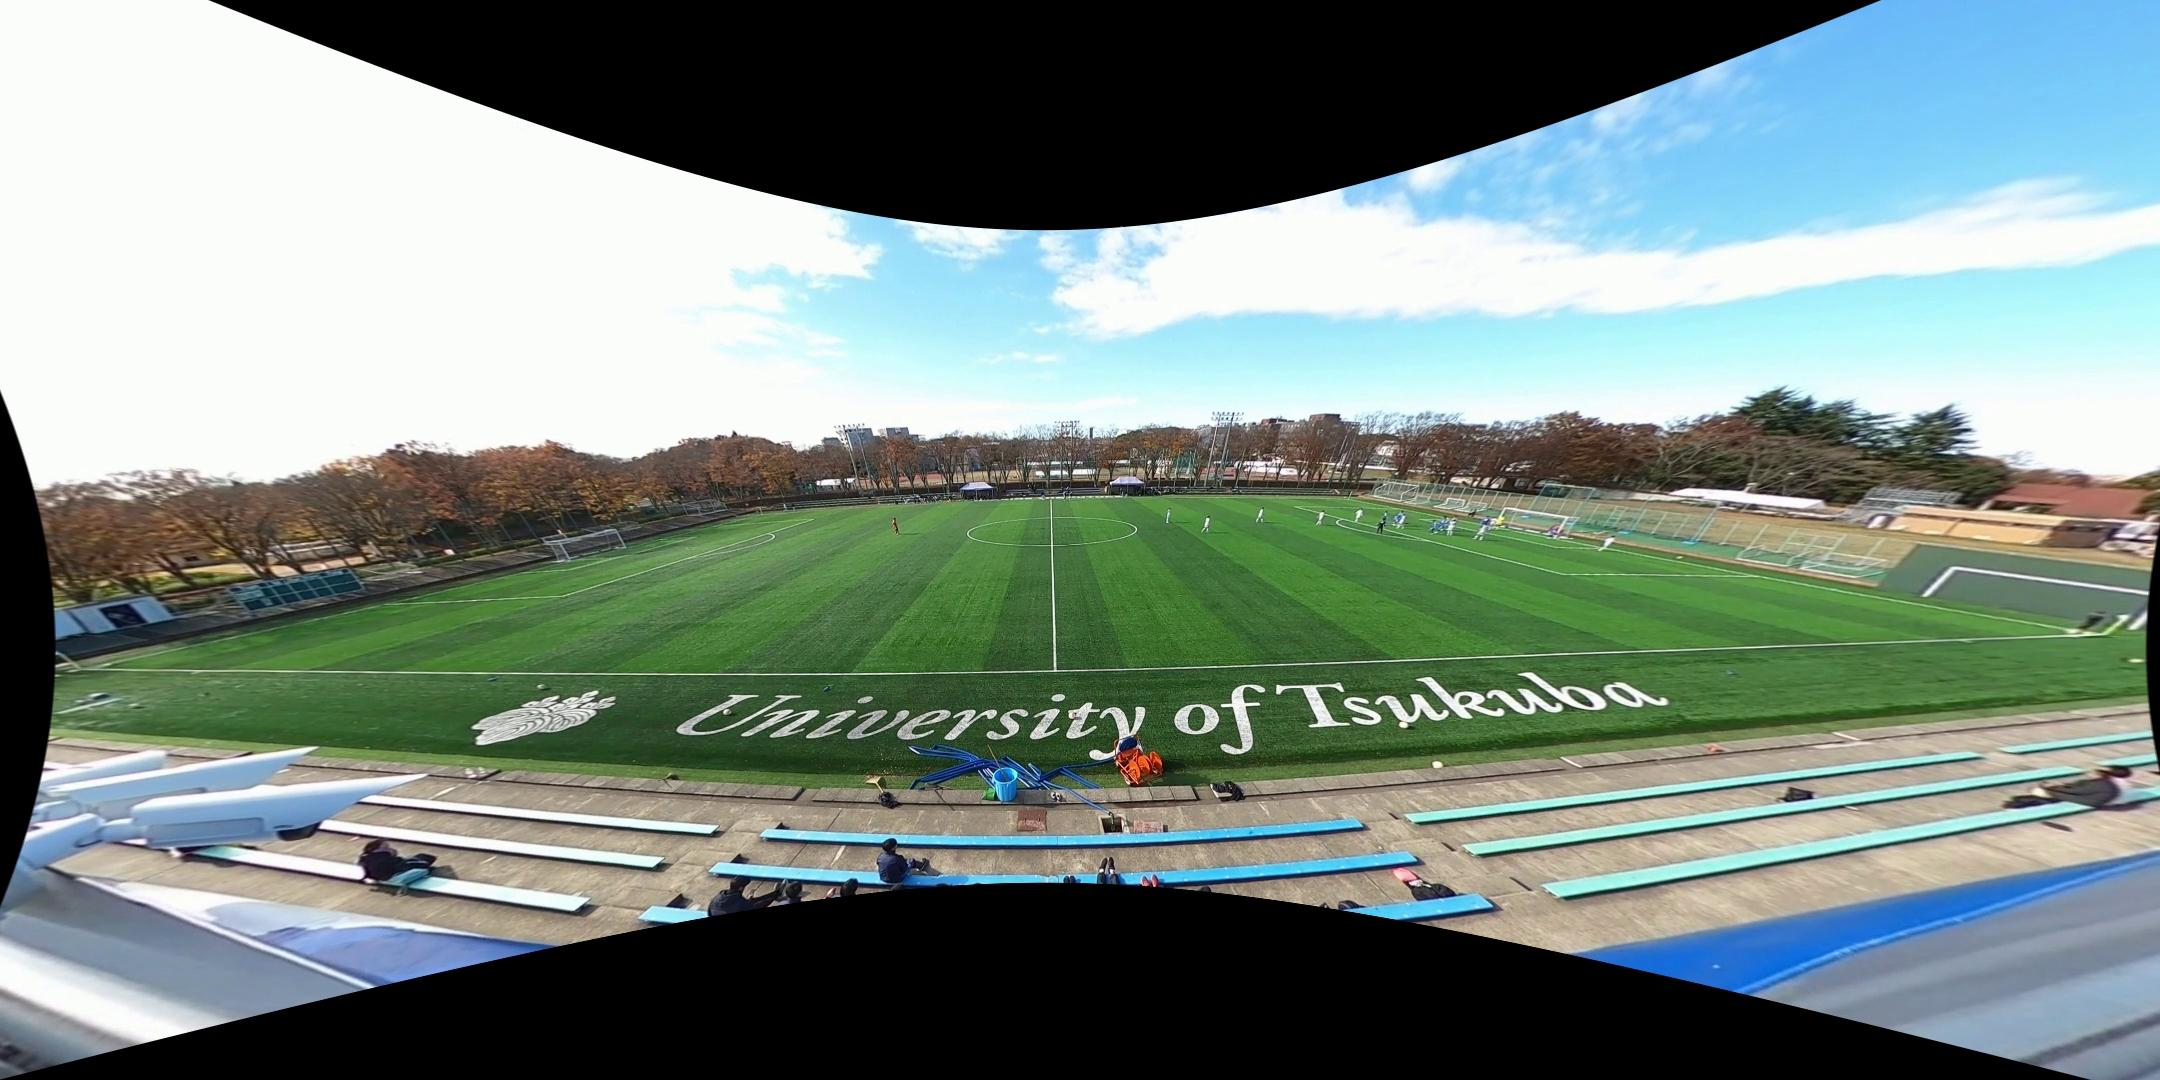person: (2072, 609, 2105, 636), (1596, 535, 1616, 552), (1472, 524, 1490, 541), (1427, 520, 1443, 535), (1493, 514, 1506, 530), (1445, 519, 1457, 536), (1448, 516, 1460, 533), (1438, 516, 1450, 533), (1316, 510, 1327, 527), (1200, 515, 1210, 533), (1393, 511, 1405, 526), (1377, 510, 1388, 526), (1377, 518, 1387, 535), (891, 517, 900, 535), (1256, 507, 1265, 524), (1397, 514, 1406, 530), (1488, 517, 1498, 531), (1354, 507, 1363, 522), (1480, 516, 1490, 529), (1165, 508, 1173, 524), (1068, 490, 1074, 502), (1062, 490, 1067, 502)
sports ball: (1429, 758, 1447, 772), (1397, 719, 1411, 732), (129, 699, 142, 711), (535, 681, 549, 692), (1066, 710, 1078, 721), (722, 707, 734, 718), (1675, 554, 1684, 561)
